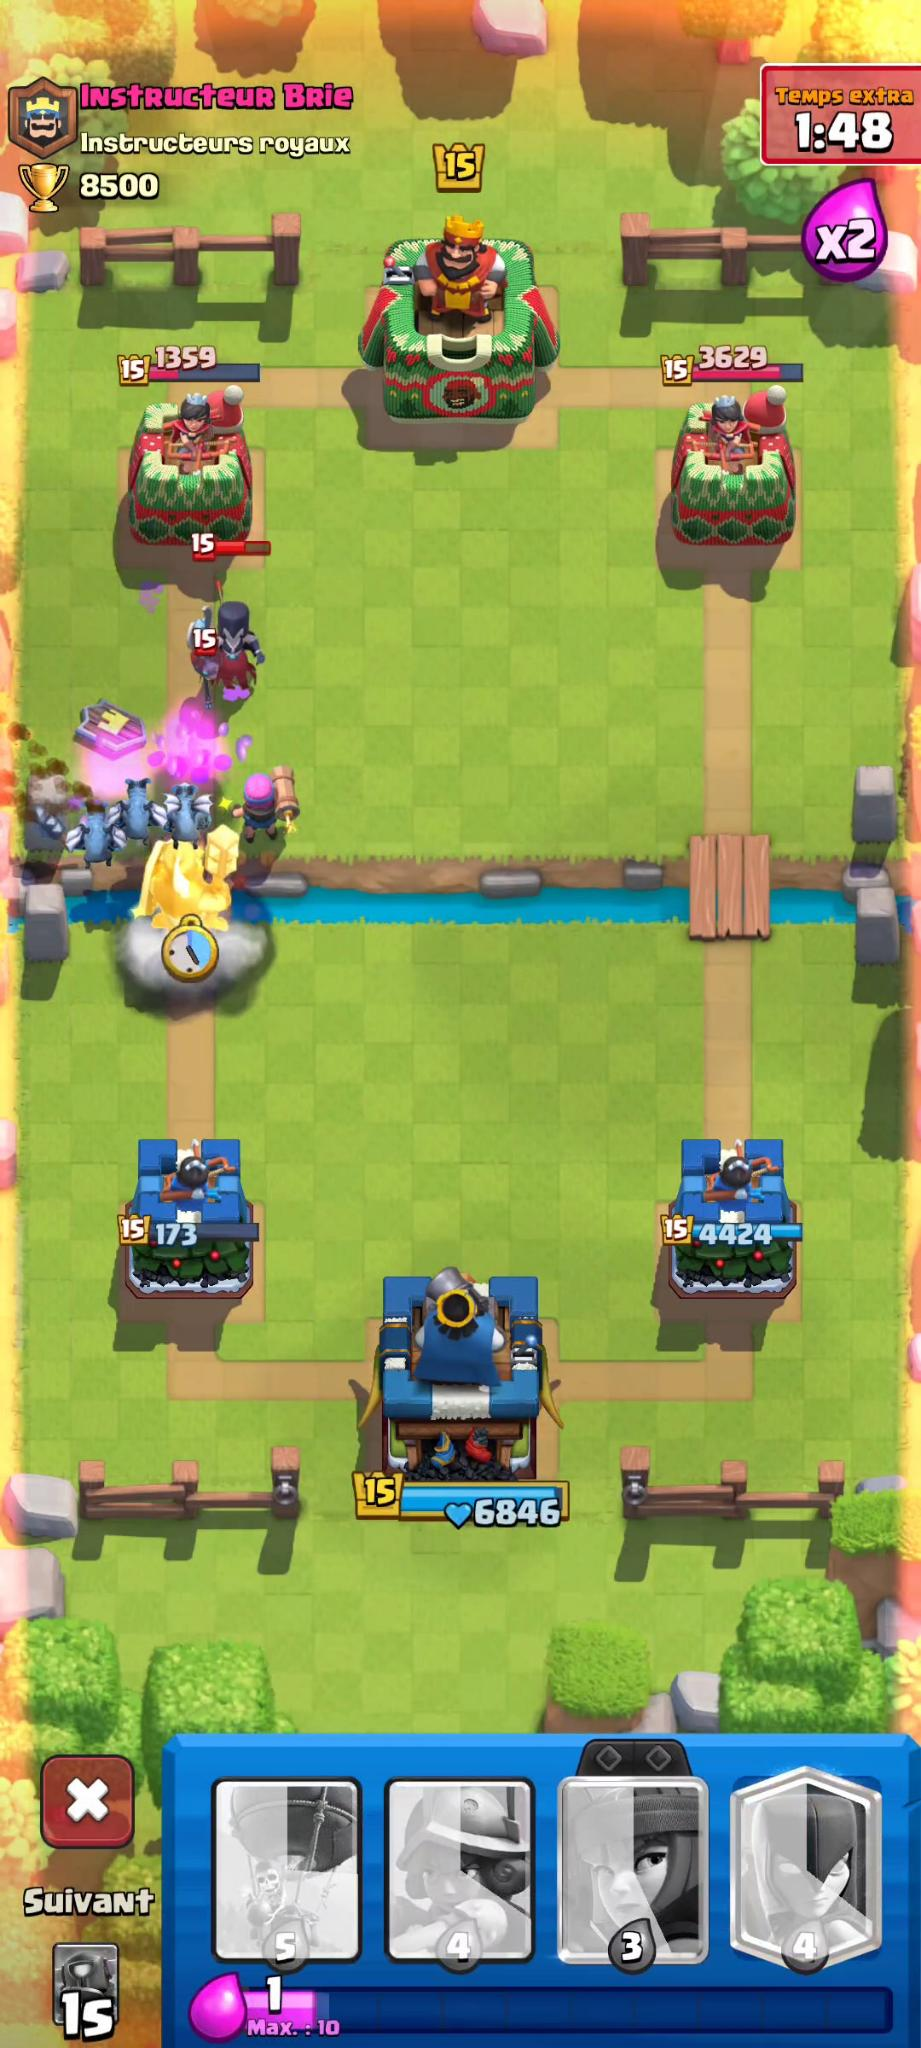bat: (179, 627, 226, 686)
gargouille: (60, 803, 127, 866), (108, 775, 162, 836), (167, 784, 216, 846)
